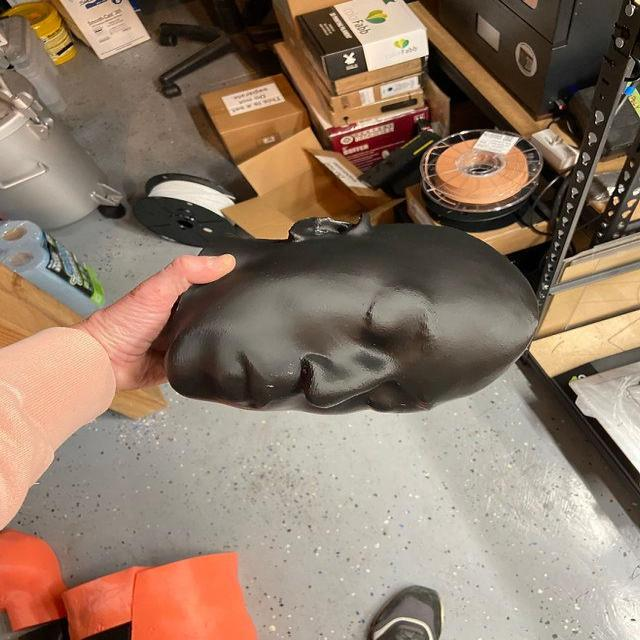Without deffect: (140, 201, 544, 427)
